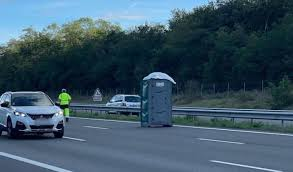car: (1, 88, 67, 142), (105, 92, 142, 113)
obstacle: (136, 70, 178, 127)
person: (58, 87, 74, 125)
